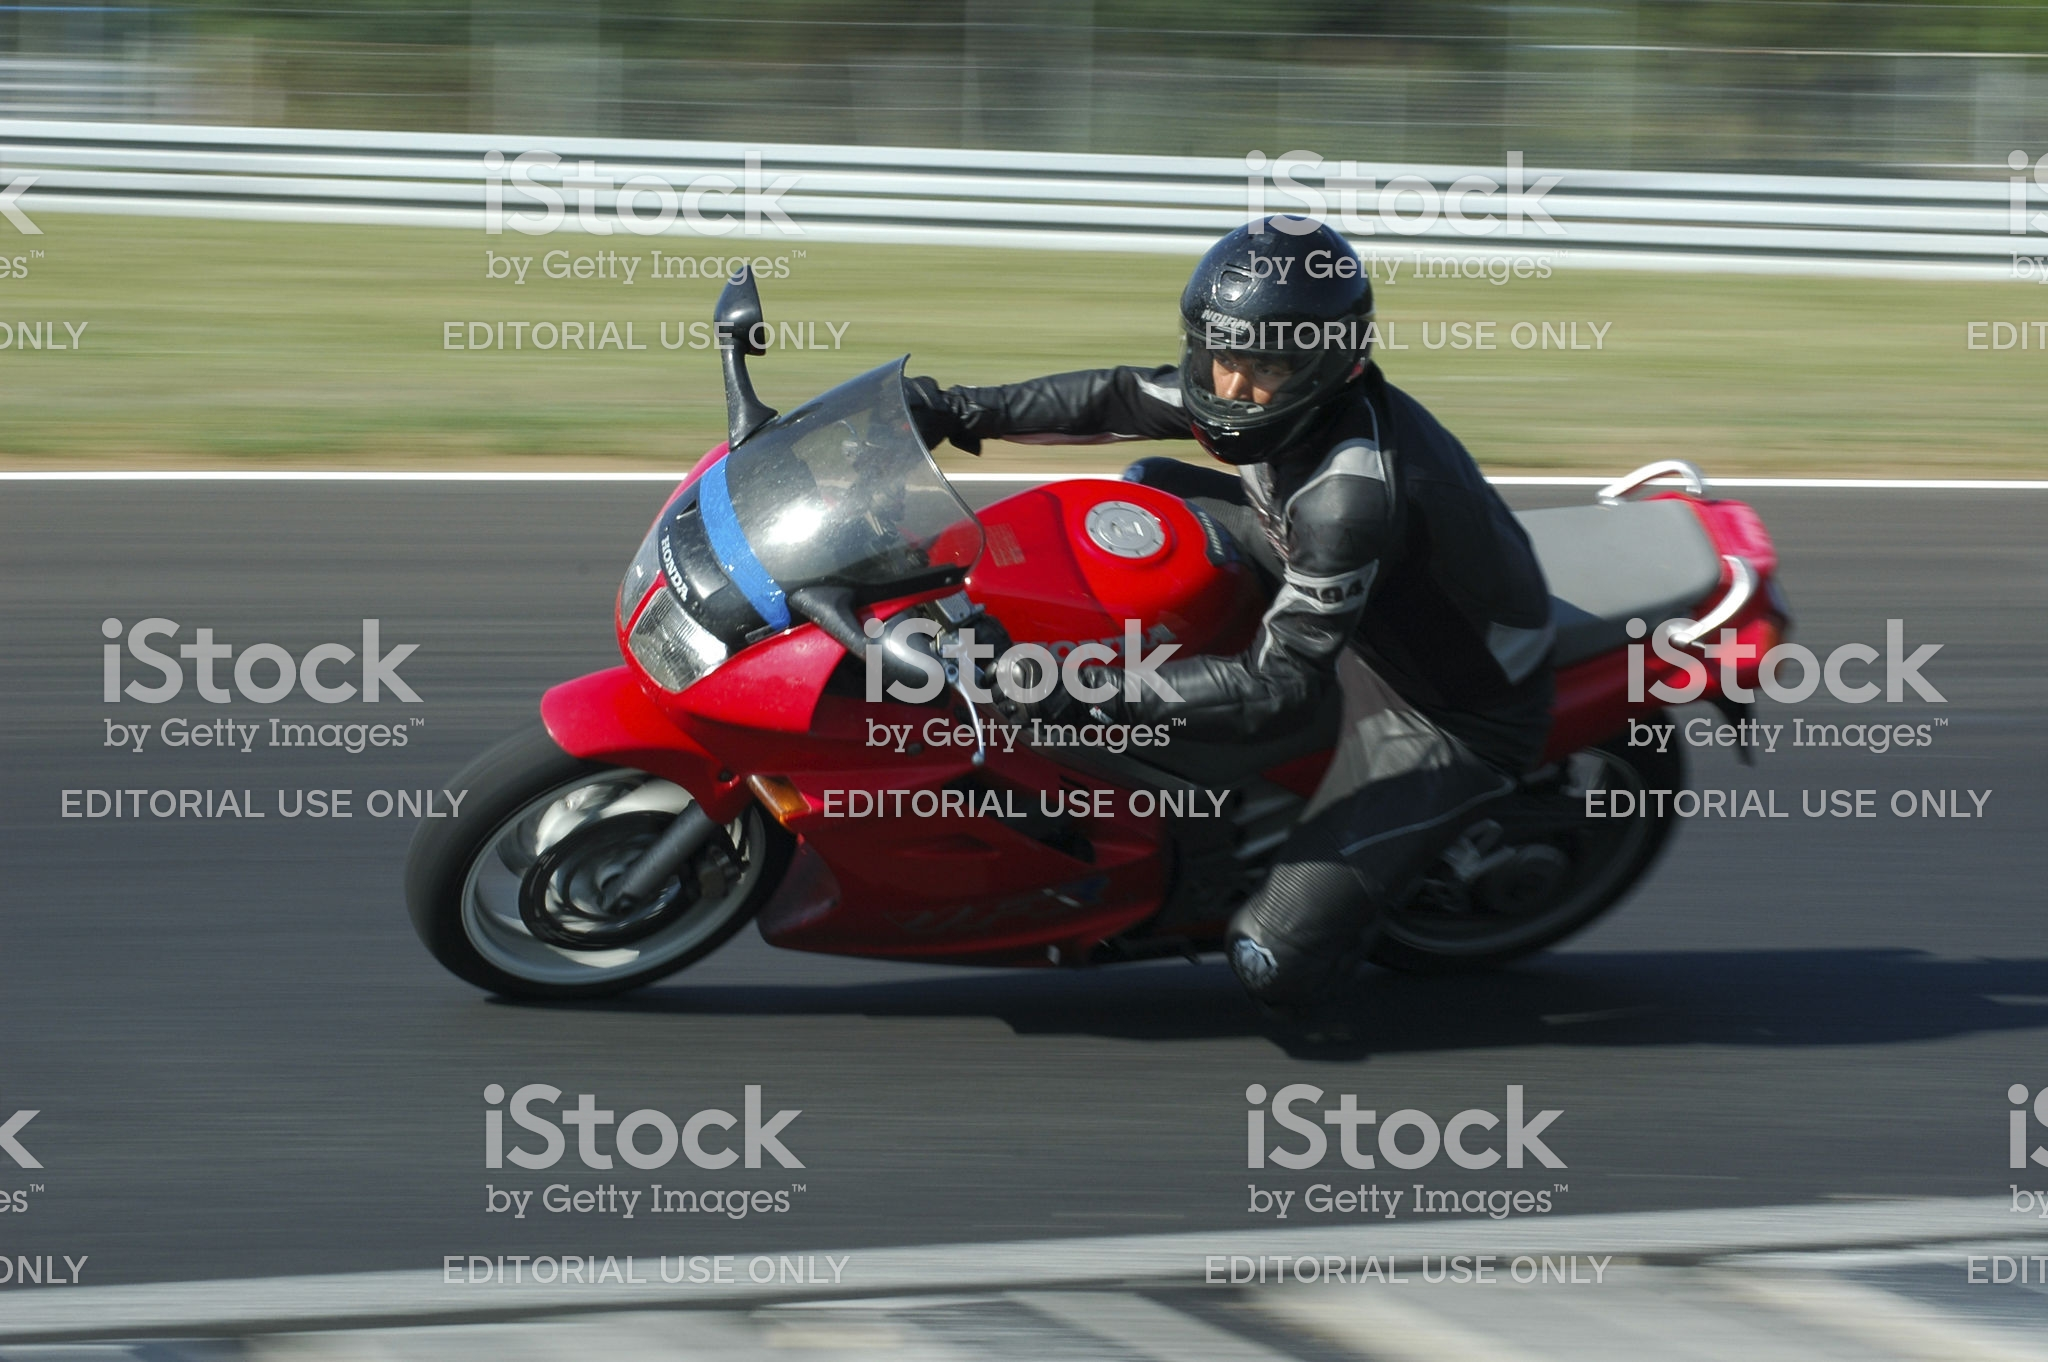helmet: (1170, 201, 1395, 465)
